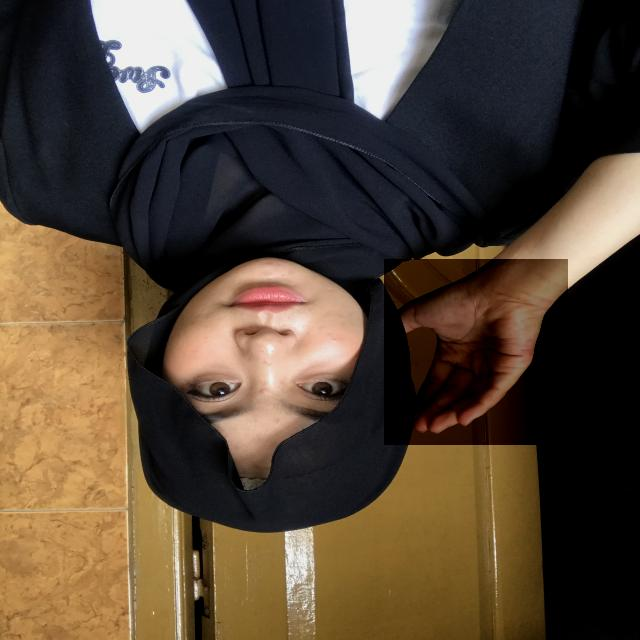mendengar: (384, 259, 568, 445)
